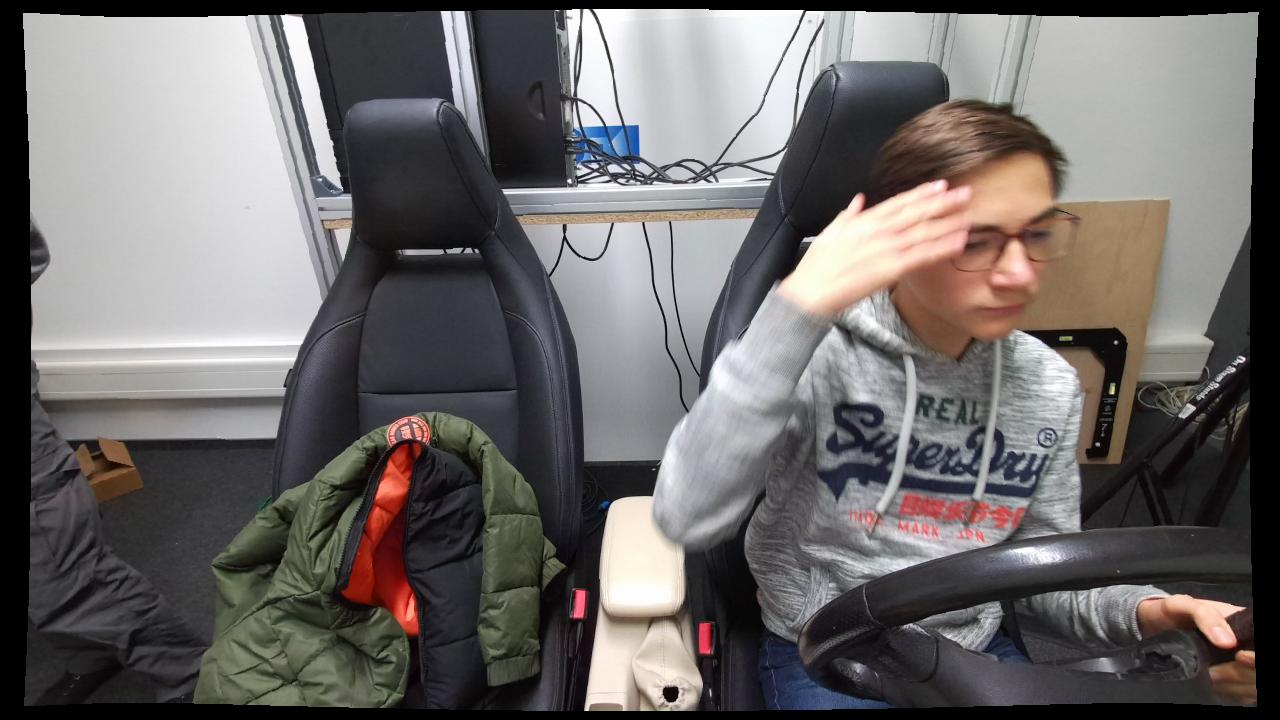Distracted: (655, 86, 1090, 714)
